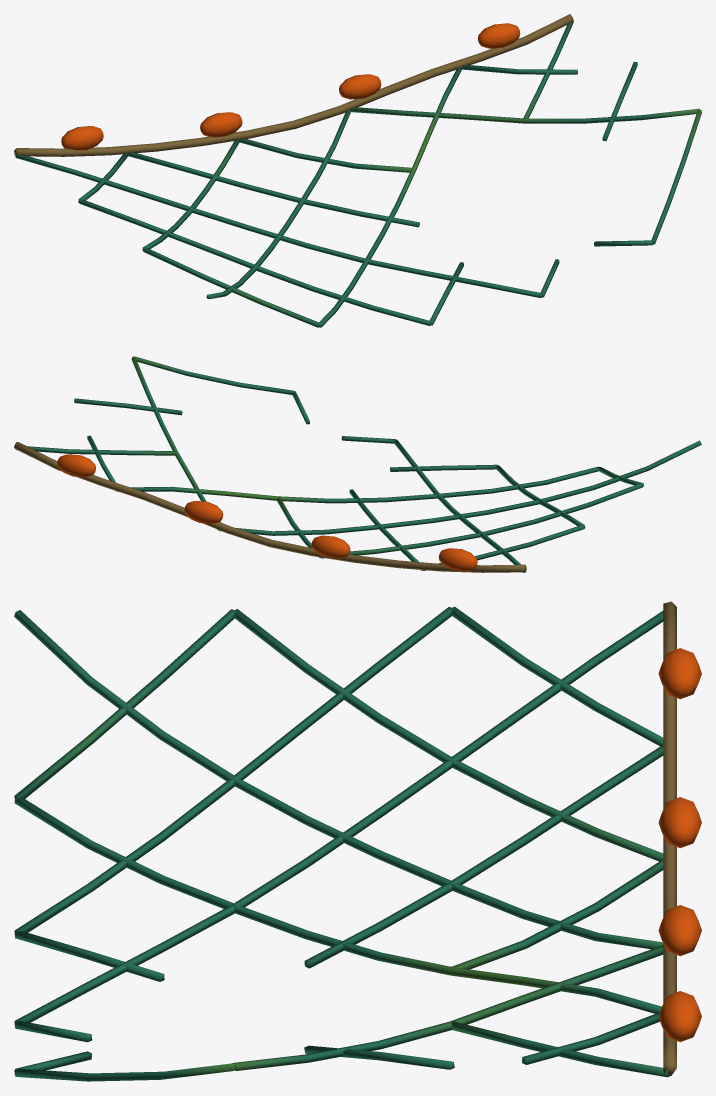
File: red_fantasma.fbx
3 views of the same model, one above another, from view 1: azimuth 30°, elevation 25°; view 2: azimuth 150°, elevation 25°; view 3: azimuth 270°, elevation 25° (orthographic). The views are drawn at different scales.
Visible parts, largest first — view 1: red_fantasma; view 2: red_fantasma; view 3: red_fantasma.
Part boxes in pixels (x1,y1,x2,y2): red_fantasma: [14, 14, 701, 327]; red_fantasma: [14, 356, 701, 572]; red_fantasma: [14, 601, 701, 1081].
Size of the model in its own units: 200 by 126 by 32.
